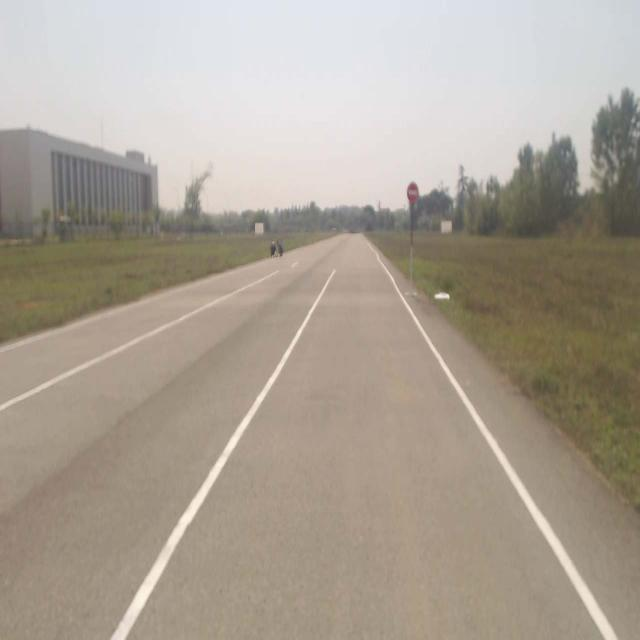girisyok: (406, 183, 419, 204)
